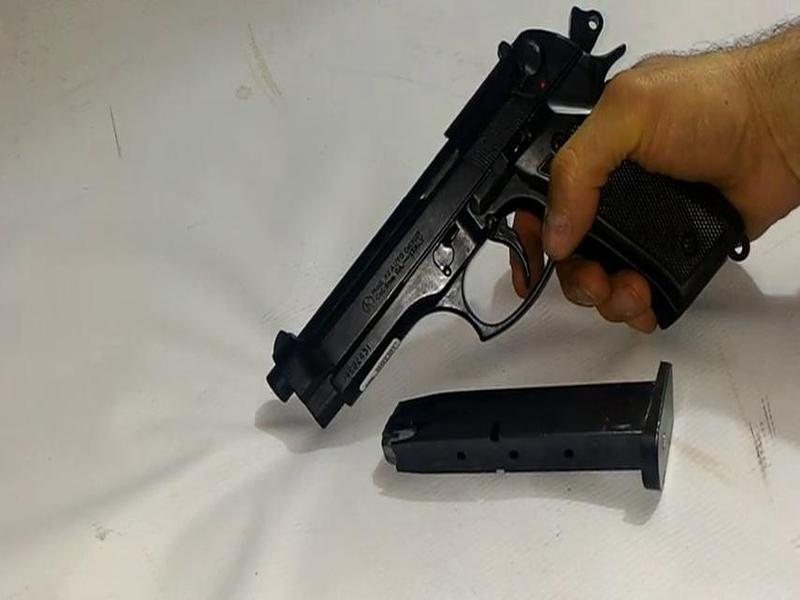Pistola: (256, 1, 760, 443)
